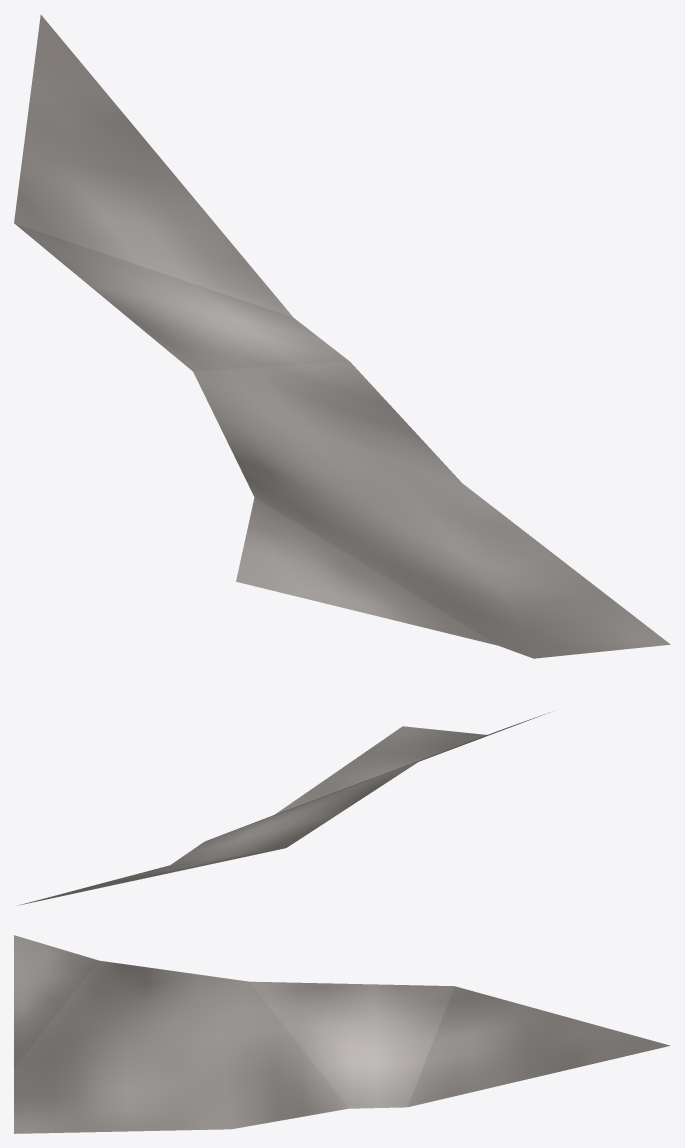
The picture shows the model from 3 angles, top to bottom: view 1: azimuth 30°, elevation 25°; view 2: azimuth 150°, elevation 25°; view 3: azimuth 270°, elevation 25°; orthographic projection. The views are drawn at different scales.
Size of the model in its own units: 0.0333 by 0.0124 by 0.0835.
Materials: 1 (1 with a texture image).
